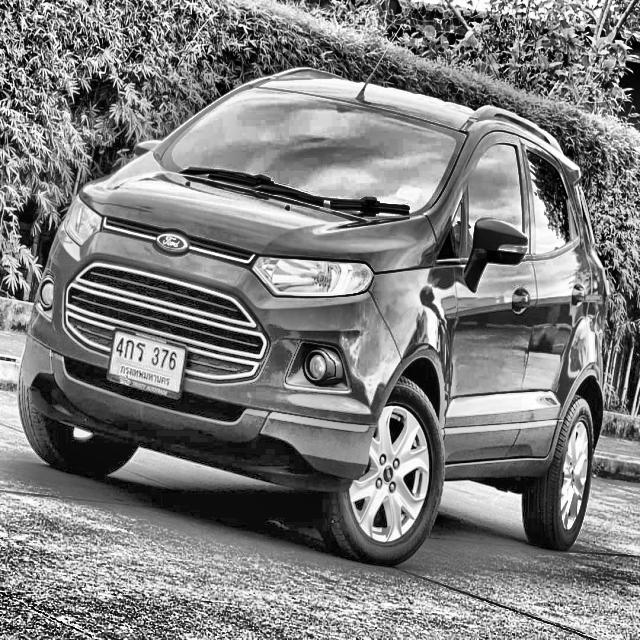license-plate: (104, 322, 192, 407)
